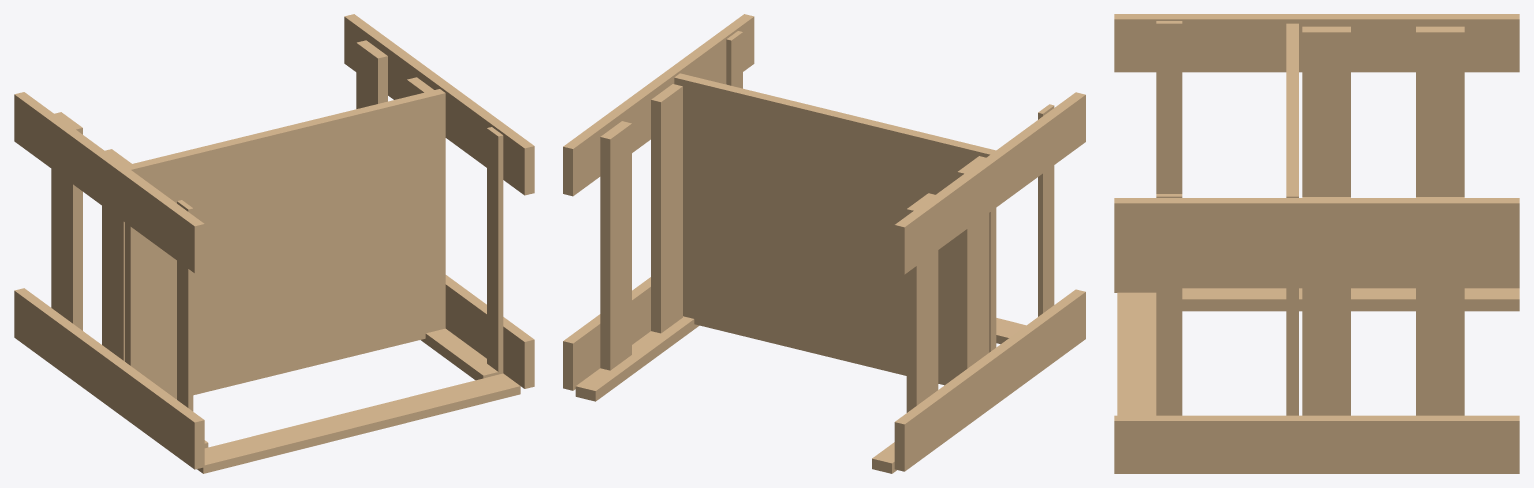
Rendered from tinker.obj.
The picture shows the model from 3 angles, left to right: view 1: azimuth 30°, elevation 25°; view 2: azimuth 150°, elevation 25°; view 3: azimuth 270°, elevation 25°; orthographic projection. The views are drawn at different scales.
Parts seen in each view (by area): view 1: obj_0; view 2: obj_0; view 3: obj_0.
Part boxes in pixels (box(x1,y1,x2,y2)): obj_0: box(14, 14, 534, 473); obj_0: box(563, 14, 1085, 473); obj_0: box(1114, 14, 1519, 473).
Bounding box in the file's own units: 136 × 96 × 125.
